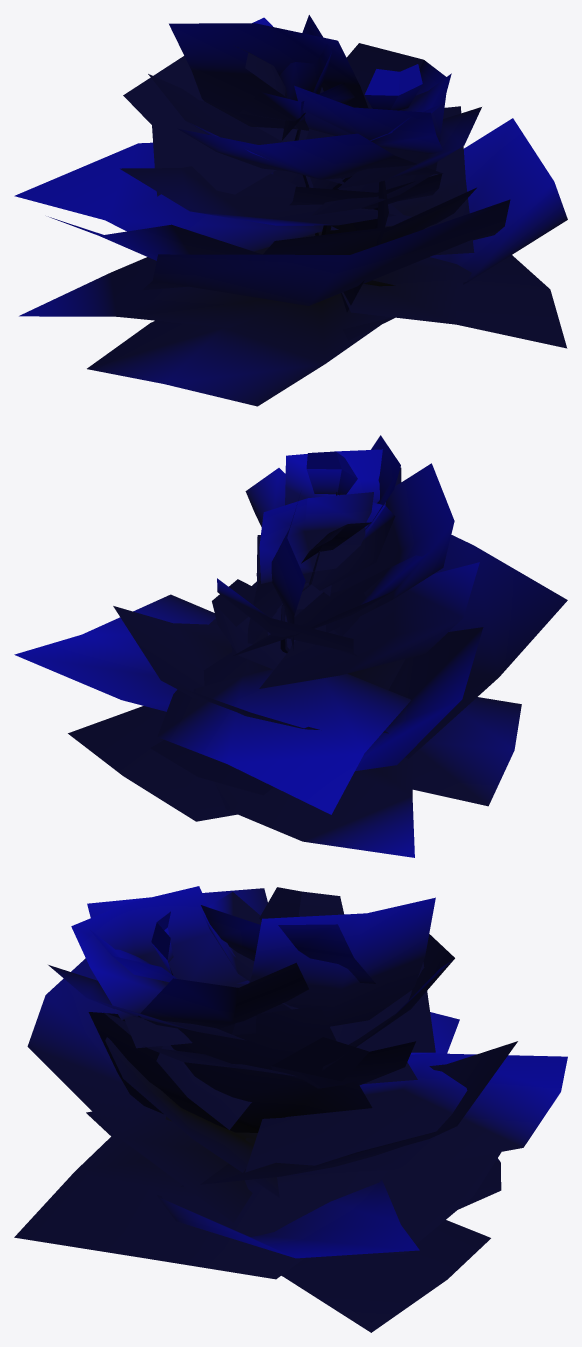
Rendered from SM_Foliage_ShrubB_03.fbx.
The picture shows the model from 3 angles, top to bottom: view 1: azimuth 30°, elevation 25°; view 2: azimuth 150°, elevation 25°; view 3: azimuth 270°, elevation 25°; orthographic projection. The views are drawn at different scales.
Parts seen in each view (by area): view 1: SM_Foliage_ShrubB_03; view 2: SM_Foliage_ShrubB_03; view 3: SM_Foliage_ShrubB_03.
Boxes of the visible parts, x1,y1,x2,y2 form: SM_Foliage_ShrubB_03: [14, 15, 567, 406]; SM_Foliage_ShrubB_03: [14, 435, 567, 857]; SM_Foliage_ShrubB_03: [14, 886, 567, 1332].
Size of the model in its own units: 371 by 345 by 224.
